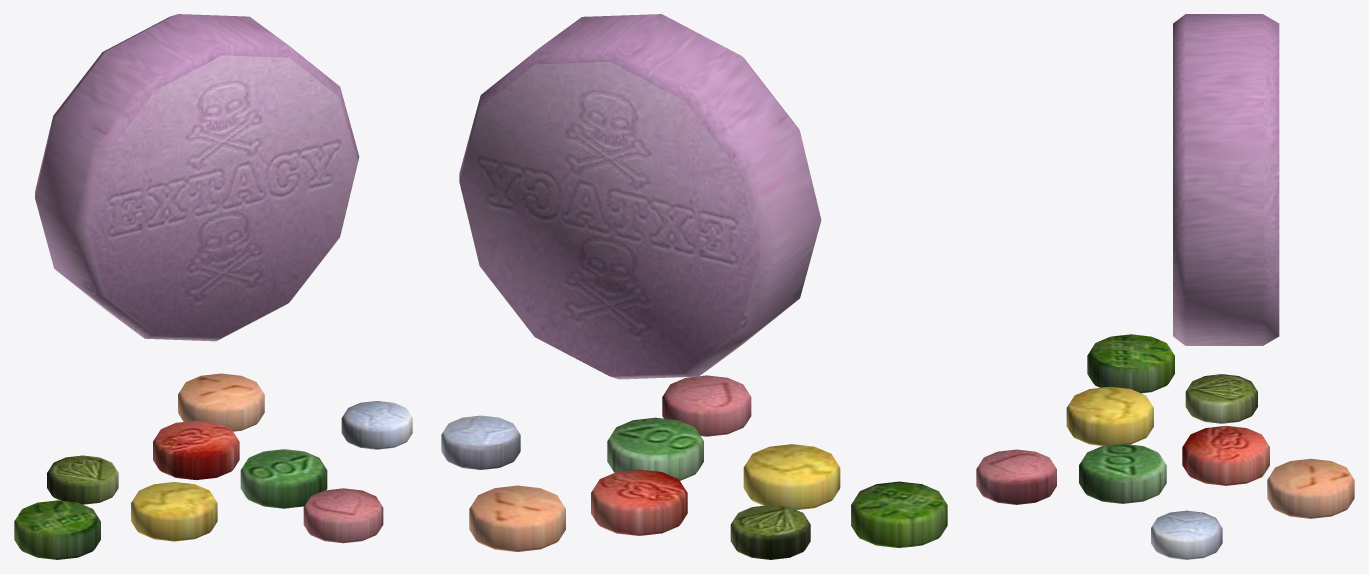
The model's file is Ekstasi.fbx.
3 renders of one model, left to right at view 1: azimuth 30°, elevation 25°; view 2: azimuth 150°, elevation 25°; view 3: azimuth 270°, elevation 25°, orthographic. The views are drawn at different scales.
Parts seen in each view (by area): view 1: ekstasi, ekstasi.grup; view 2: ekstasi, ekstasi.grup; view 3: ekstasi, ekstasi.grup.
Part boxes in pixels (x1,y1,x2,y2): ekstasi: (35, 14, 359, 341); ekstasi.grup: (14, 373, 412, 559); ekstasi: (459, 14, 821, 379); ekstasi.grup: (441, 375, 947, 559); ekstasi: (1173, 14, 1279, 345); ekstasi.grup: (976, 334, 1354, 559).
Size of the model in its own units: 573 by 574 by 448.
